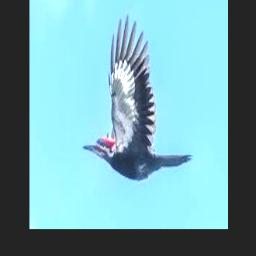Woodpecker: (82, 14, 193, 180)
